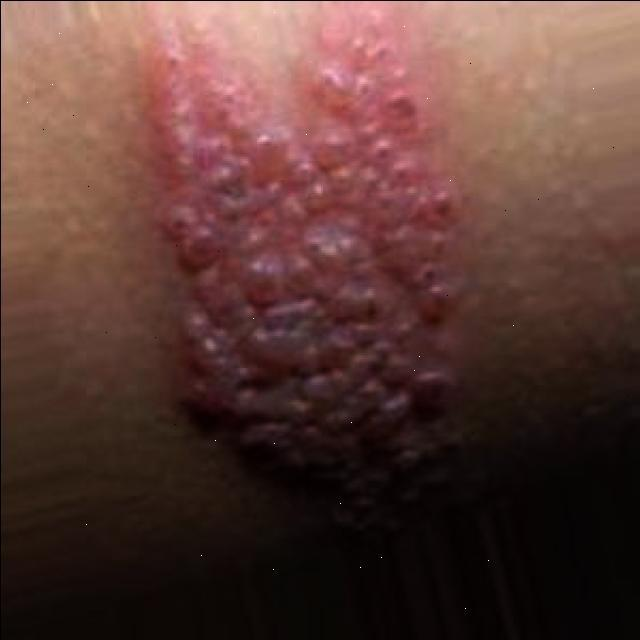Shingles: (129, 0, 468, 468)
